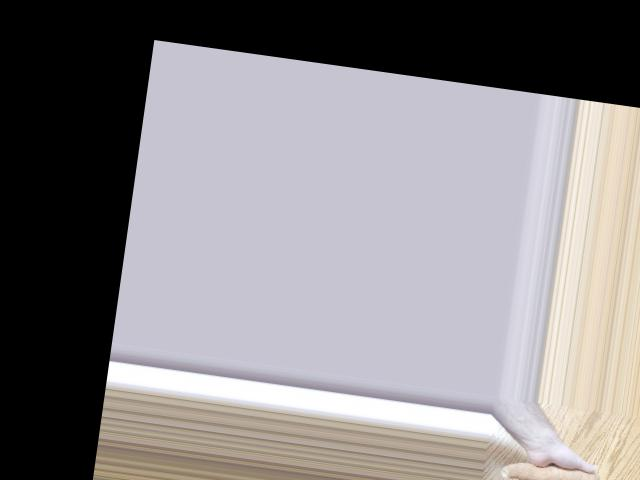sweet_potato: (498, 448, 603, 480)
